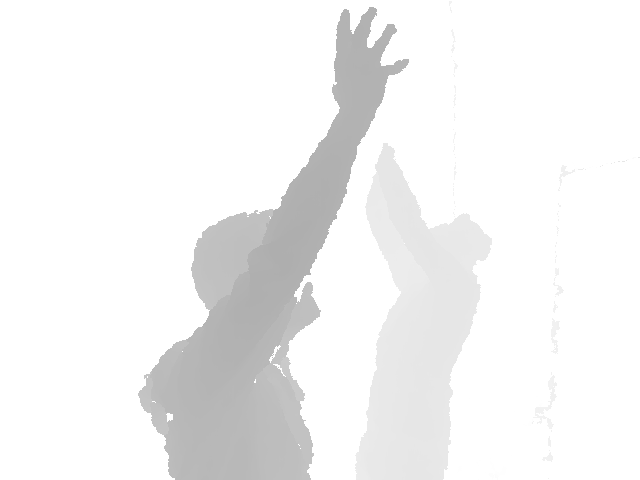hand: (332, 5, 409, 121)
head: (191, 205, 321, 341), (420, 211, 493, 281)
person: (136, 4, 409, 479), (353, 141, 494, 480)
